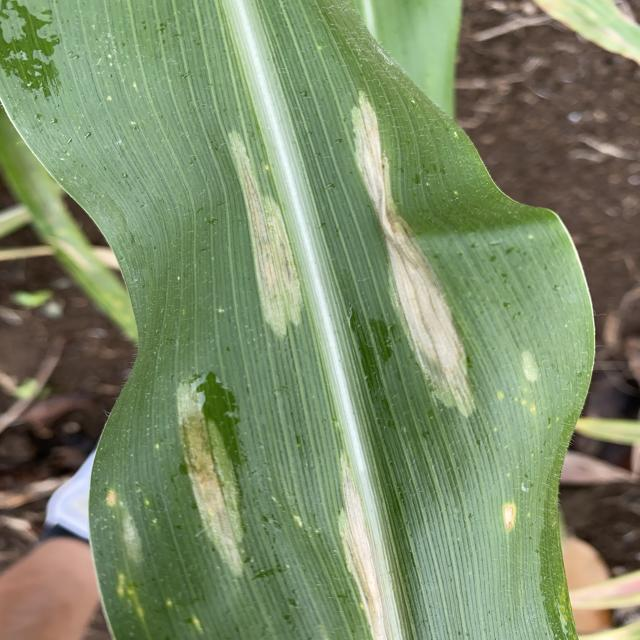Corn_Leaf_Blight: (107, 49, 529, 640)
